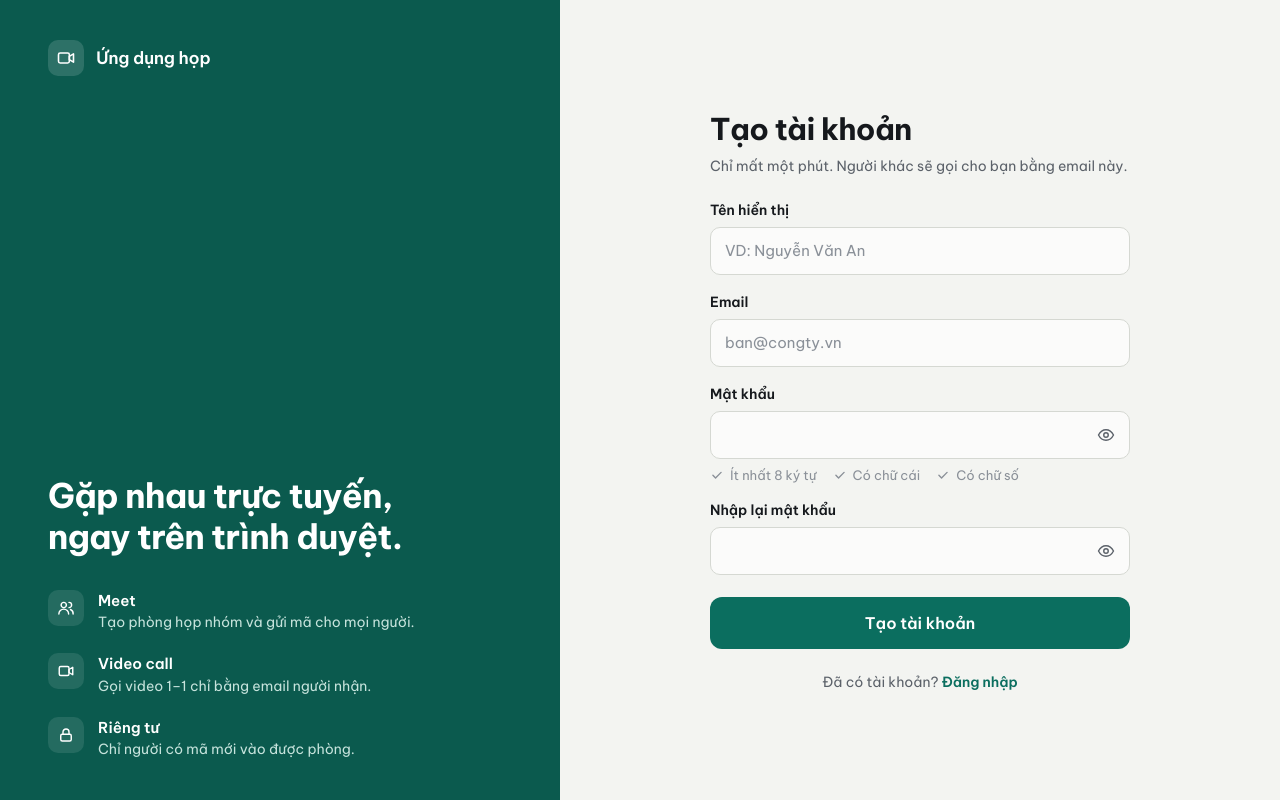
Scenario: đăng ký › email đã dùng (409) thì báo ngay ở ô Email
Type "Nguyễn An" into the field labelled "Tên hiển thị" at (920, 250), box [710,226,1130,274]
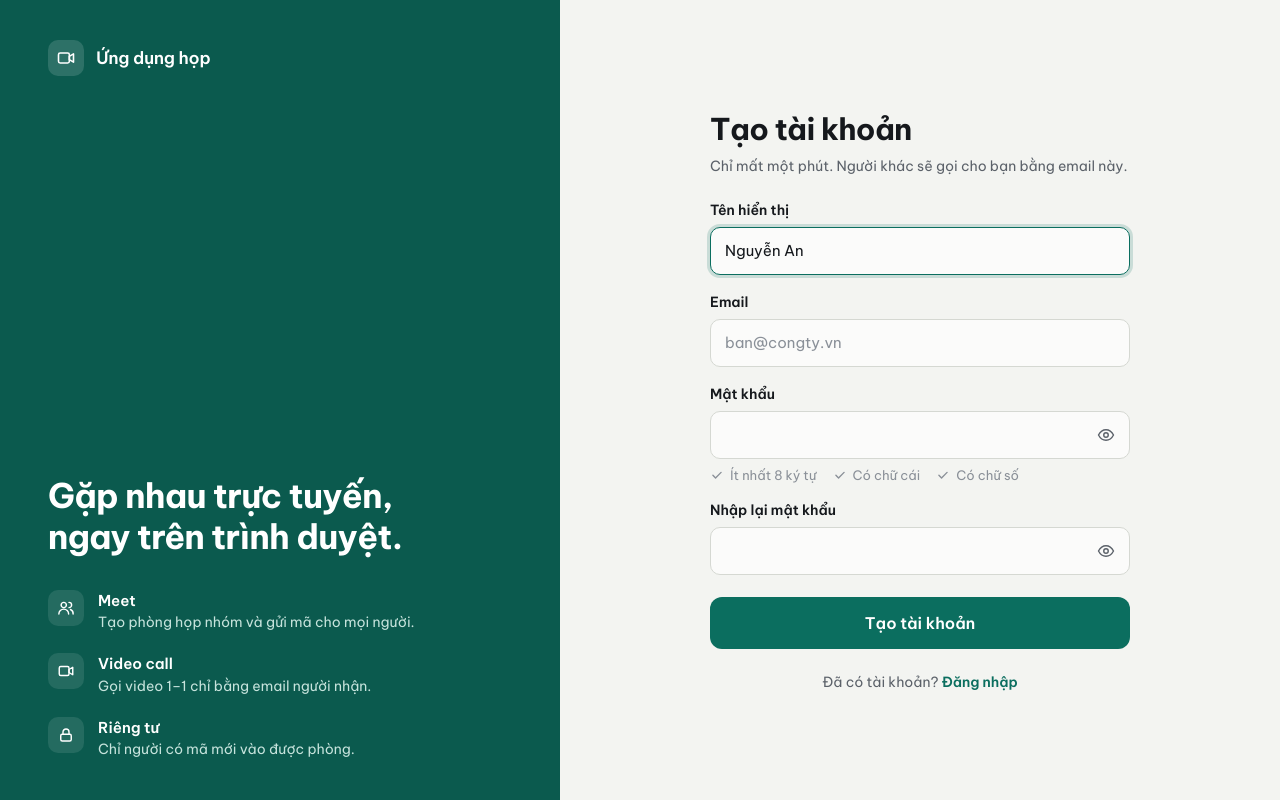
Type "an@congty.vn" into the field labelled "Email" at (920, 342), box [710,318,1130,366]
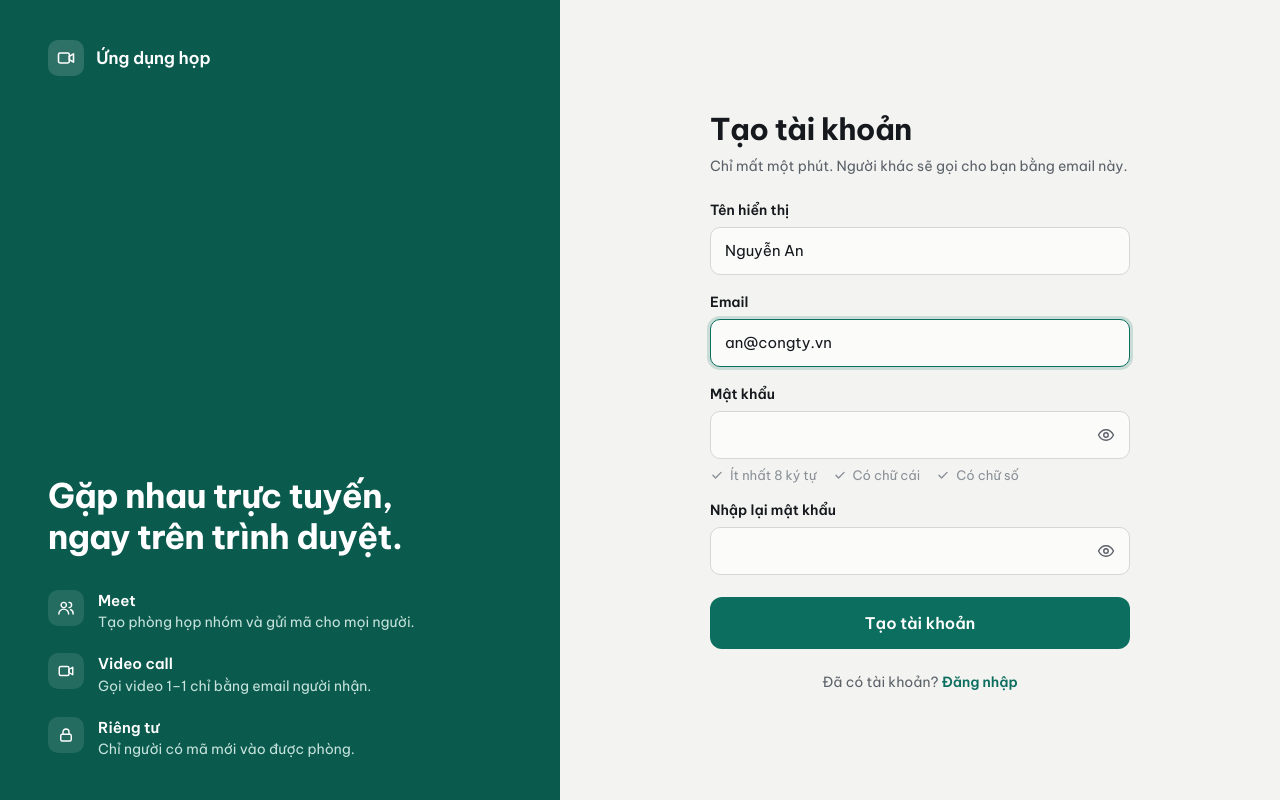
Type "matkhau123" into the password field labelled "Mật khẩu" at (920, 434), box [710,410,1130,458]
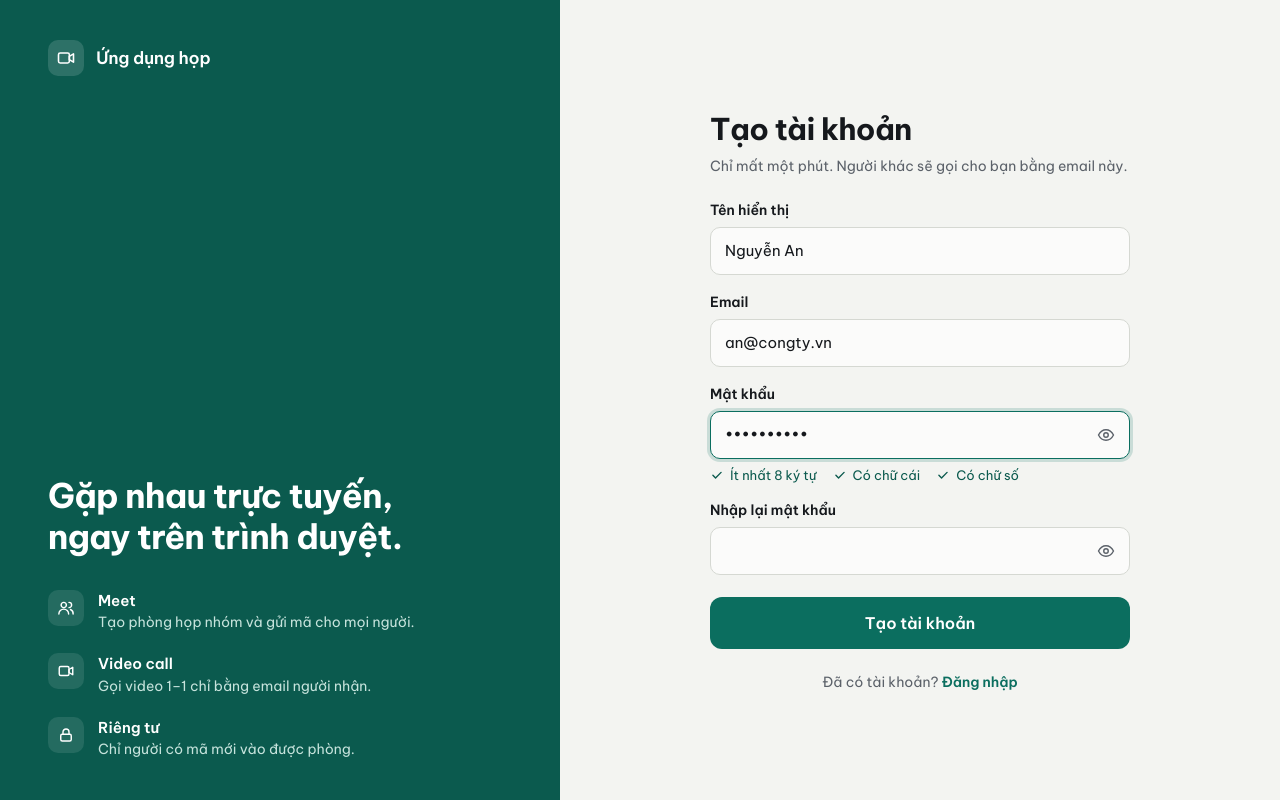
Type "matkhau123" into the password field labelled "Nhập lại mật khẩu" at (920, 550), box [710,526,1130,574]
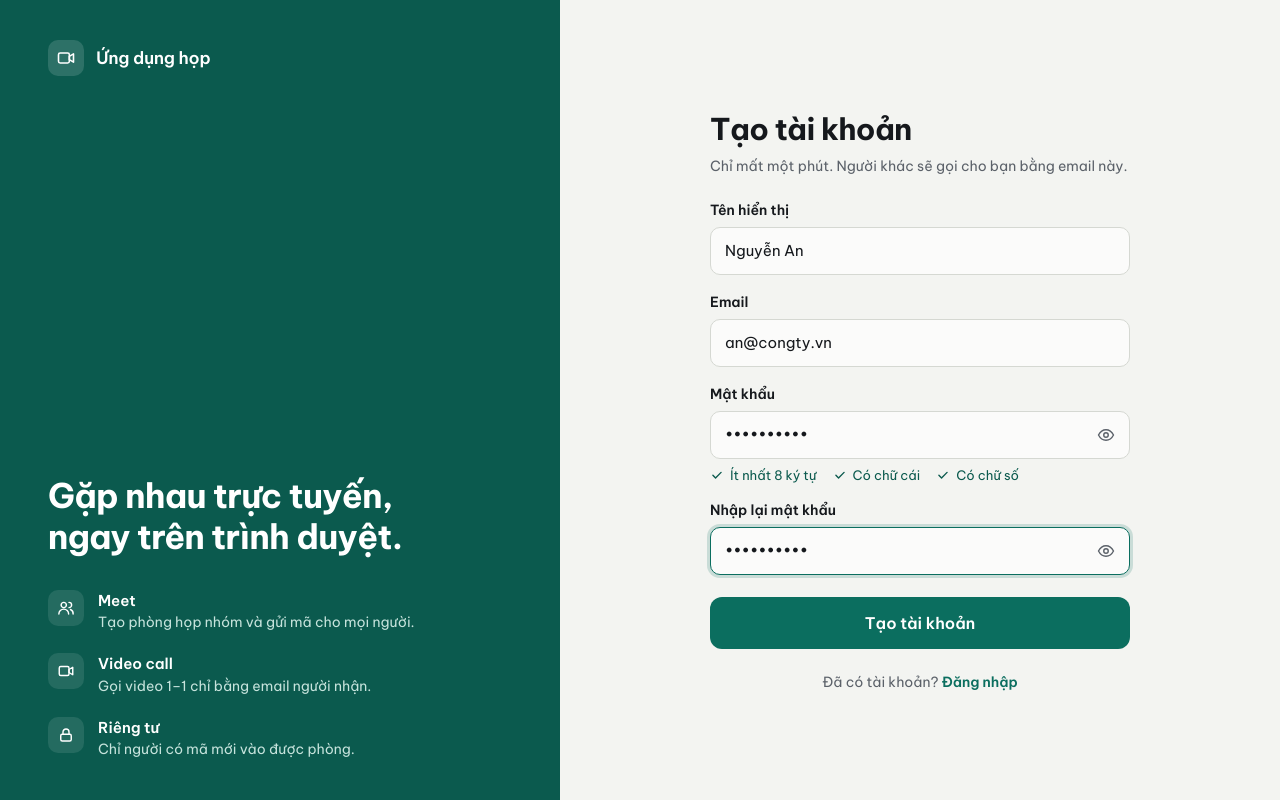
Click the button "Tạo tài khoản" at (920, 622), box [710,596,1130,648]
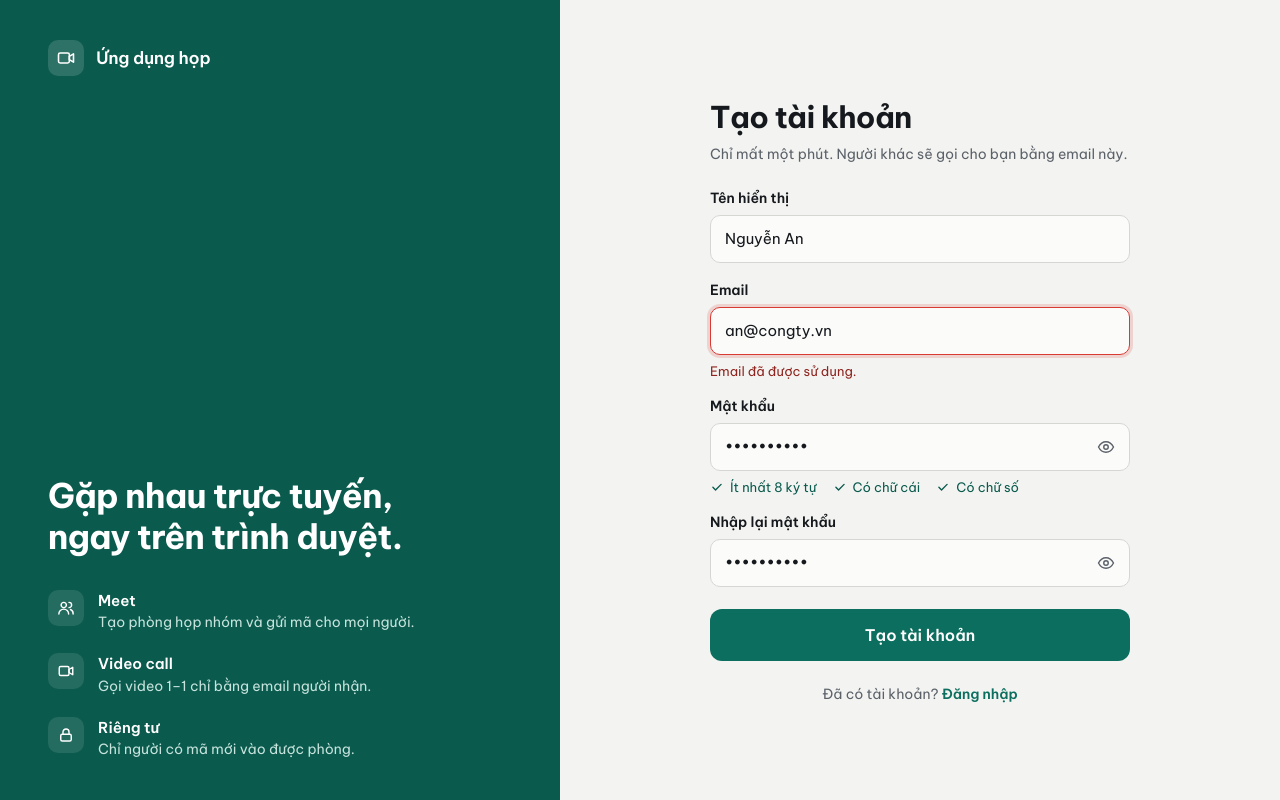
Expected: the text "Email đã được sử dụng." is shown, [710,362,856,378]
